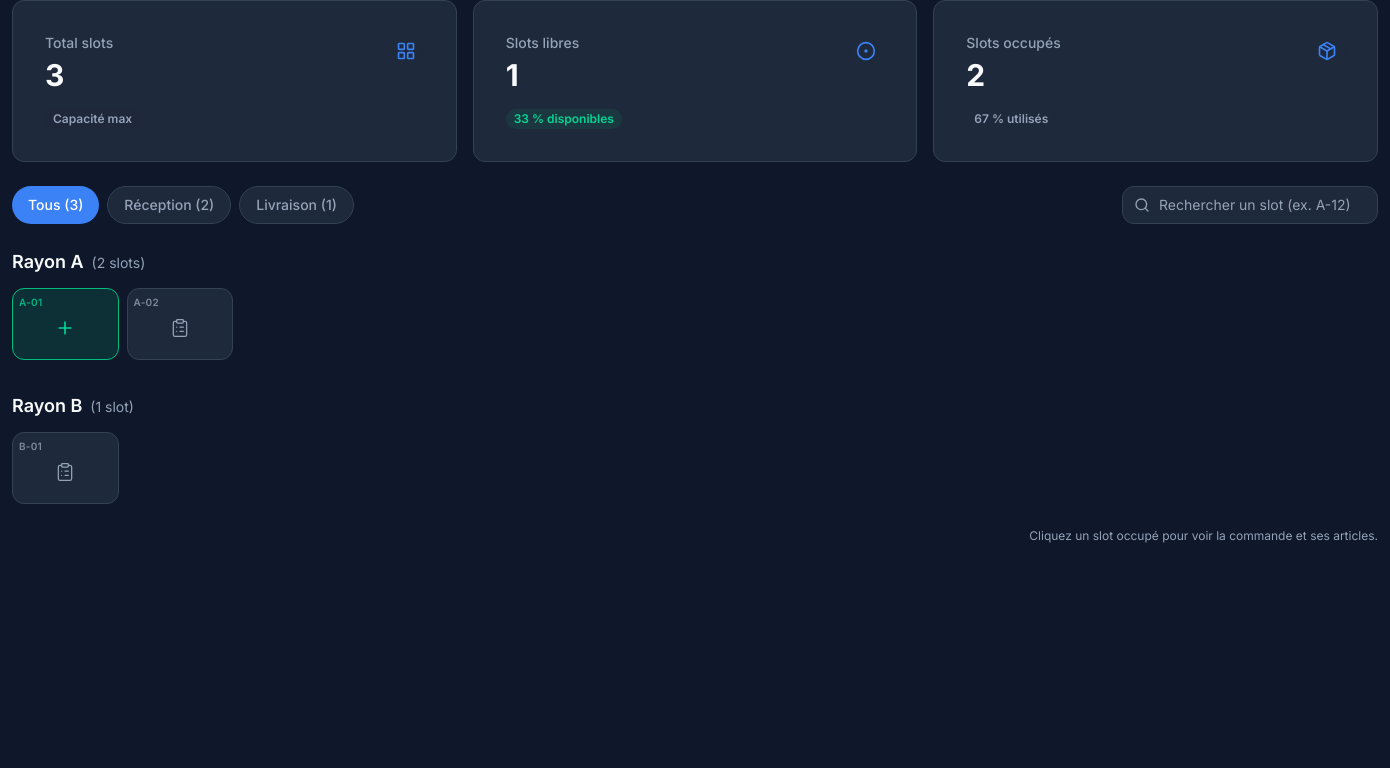
Test case: StorageSlotGrid › filters by zone chip
This screenshot has width=1390, height=768.
Step 1. Click the button "Livraison (1)" → click(297, 205), box [239,186,354,224]
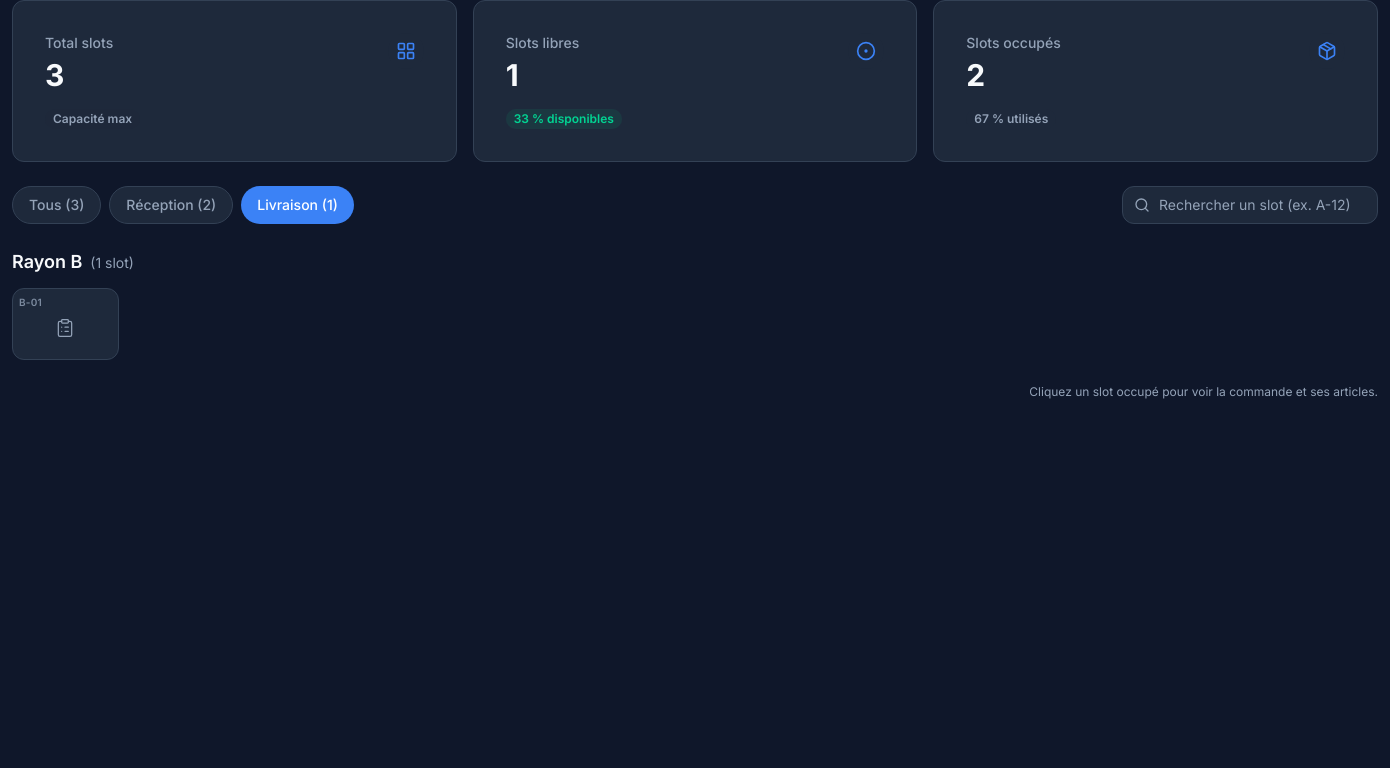
Expected: the heading "Rayon B" is shown, [12,248,82,276]
Expected: the heading "Rayon A" is gone
